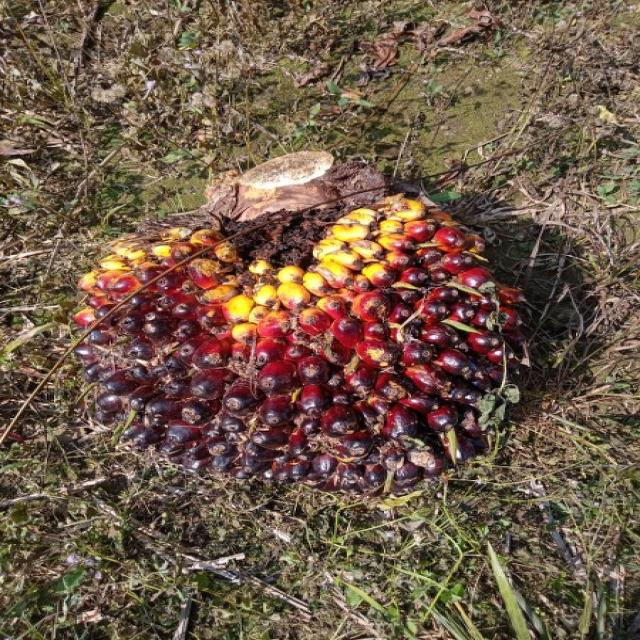fraksi 1: (14, 123, 606, 561)
